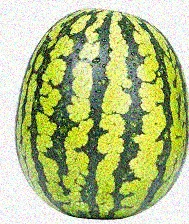watermelon: (17, 8, 189, 221)
